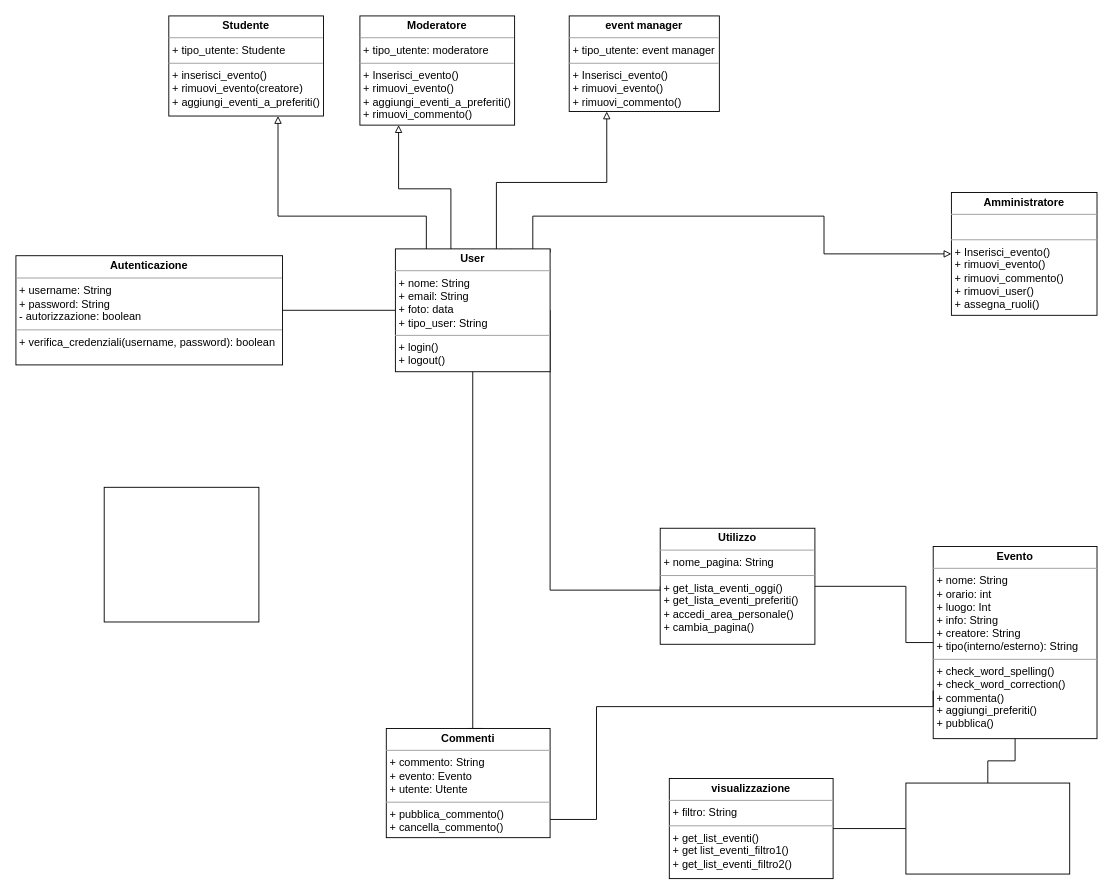
This 1113x895 diagram has some shape labels left out. The shapes that lost their labels are listed below. From the top down, each one's box as (x1, y1, x2, y2) in pixels, then its label:
(103, 486, 259, 622): Area personale + eventi_preferiti() + eventi_personali() +notifiche_segnalazioni
(905, 782, 1070, 874): Calendario + data : int + tempo: int + inserisci_evento()
